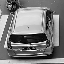motor: (11, 4, 52, 56)
